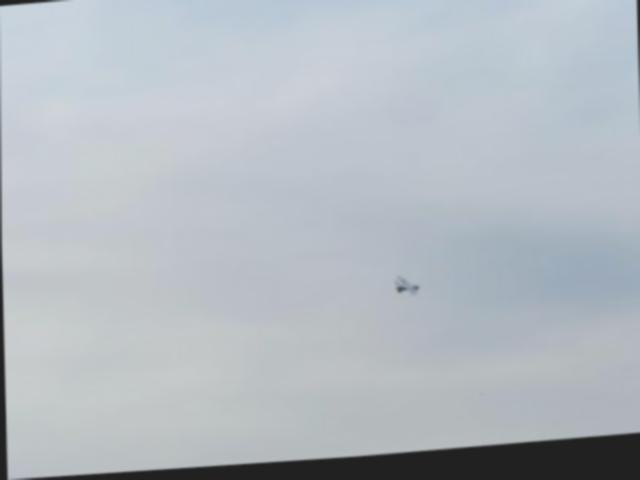uav: (391, 274, 421, 310)
